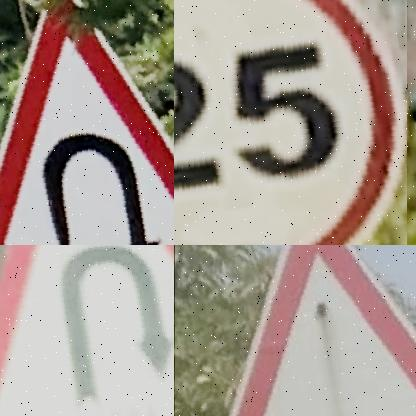Speed Breaker Ahead: (235, 245, 416, 416)
Speed Limit -25 kmph-: (174, 0, 407, 245)
U-Turn: (0, 245, 174, 416)
